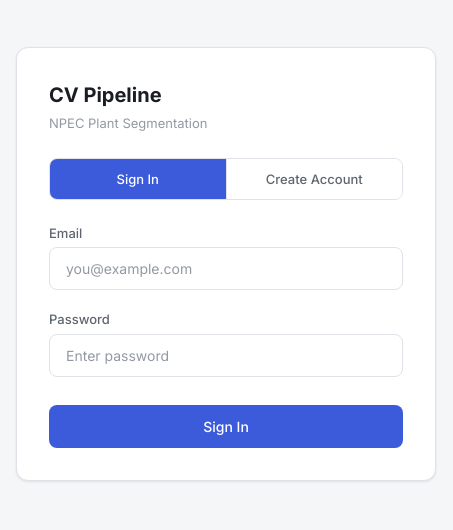
it: LoginPage › shows error on failed login
Type "test@example.com" into the field labelled "Email".
click(226, 268); type("test@example.com")  # box top-left (49, 247), bottom-right (403, 290)
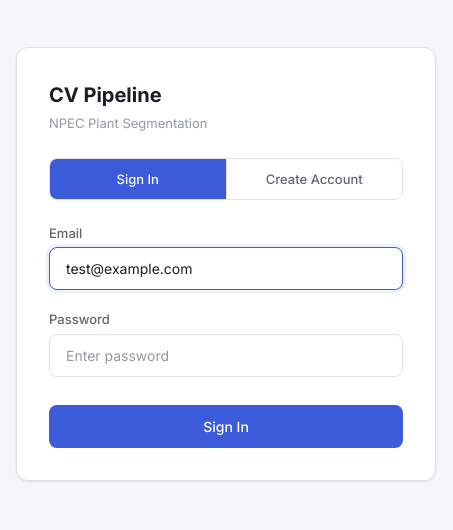
Type "wrong" into the password field labelled "Password".
click(226, 355); type("wrong")  # box top-left (49, 334), bottom-right (403, 376)
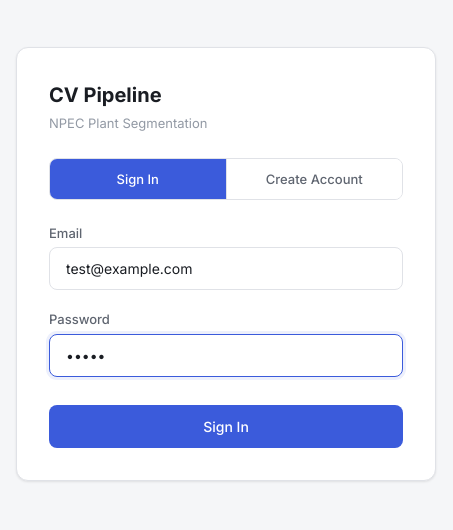
Click the button with id "btn-submit".
click(226, 426)  # box top-left (49, 404), bottom-right (403, 448)
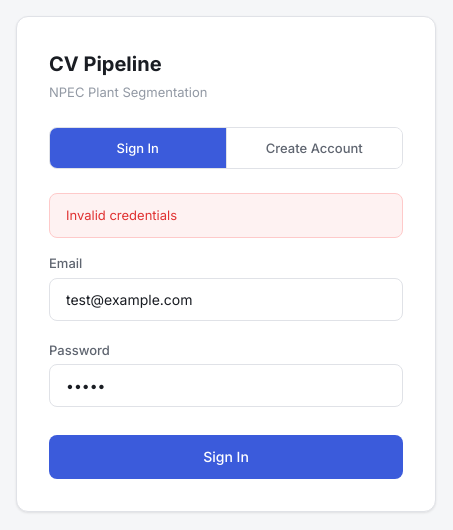
Expected: the text "Invalid credentials" is shown, top-left (49, 193), bottom-right (403, 238)
